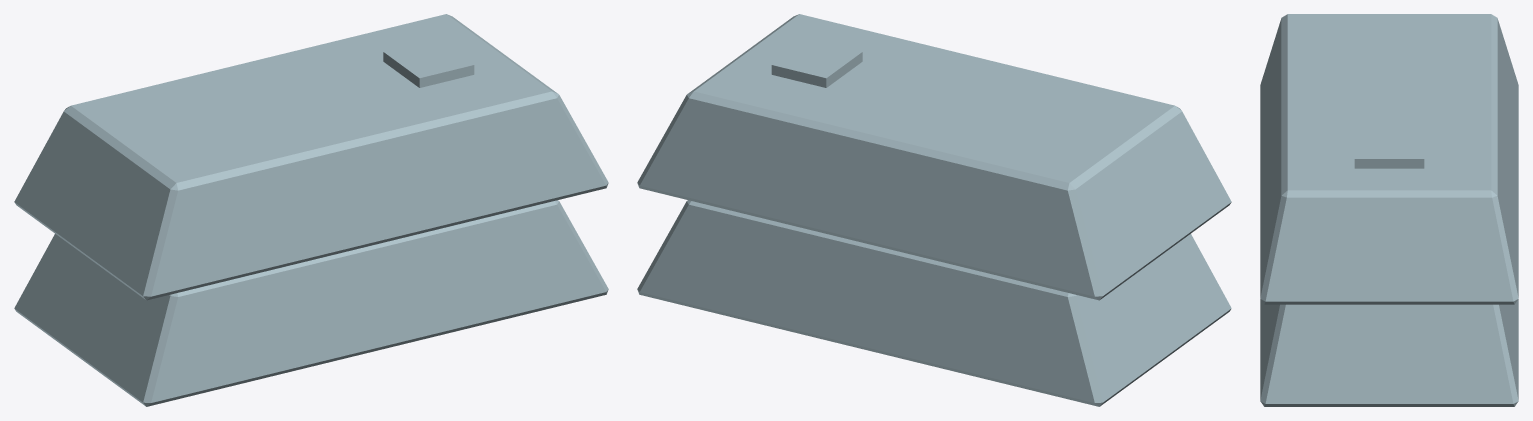
File: iron-ingot.glb
The picture shows the model from 3 angles, left to right: view 1: azimuth 30°, elevation 25°; view 2: azimuth 150°, elevation 25°; view 3: azimuth 270°, elevation 25°; orthographic projection. The views are drawn at different scales.
Visible parts, largest first — view 1: iron-ingot / Iron; view 2: iron-ingot / Iron; view 3: iron-ingot / Iron.
Boxes of the visible parts, <box> form: iron-ingot / Iron: <box>14,14,608,406</box>; iron-ingot / Iron: <box>637,14,1231,406</box>; iron-ingot / Iron: <box>1260,14,1518,406</box>.
Size of the model in its own units: 0.2975 by 0.132 by 0.1487.
